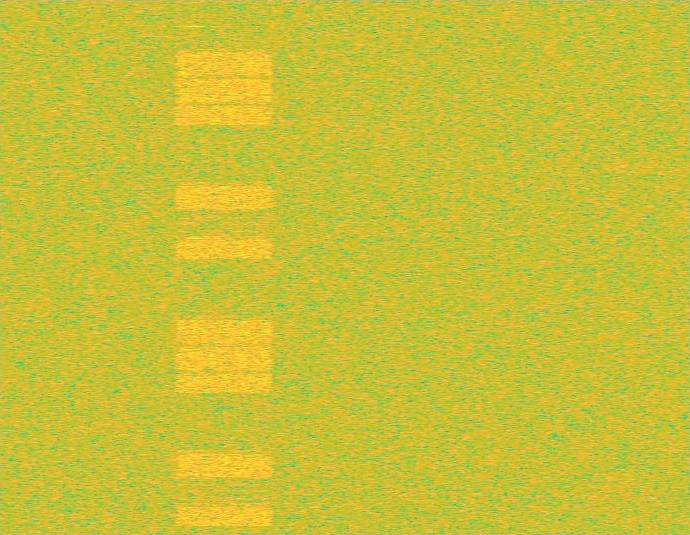LTE: (172, 0, 276, 534)
Radar: (189, 0, 203, 534)
